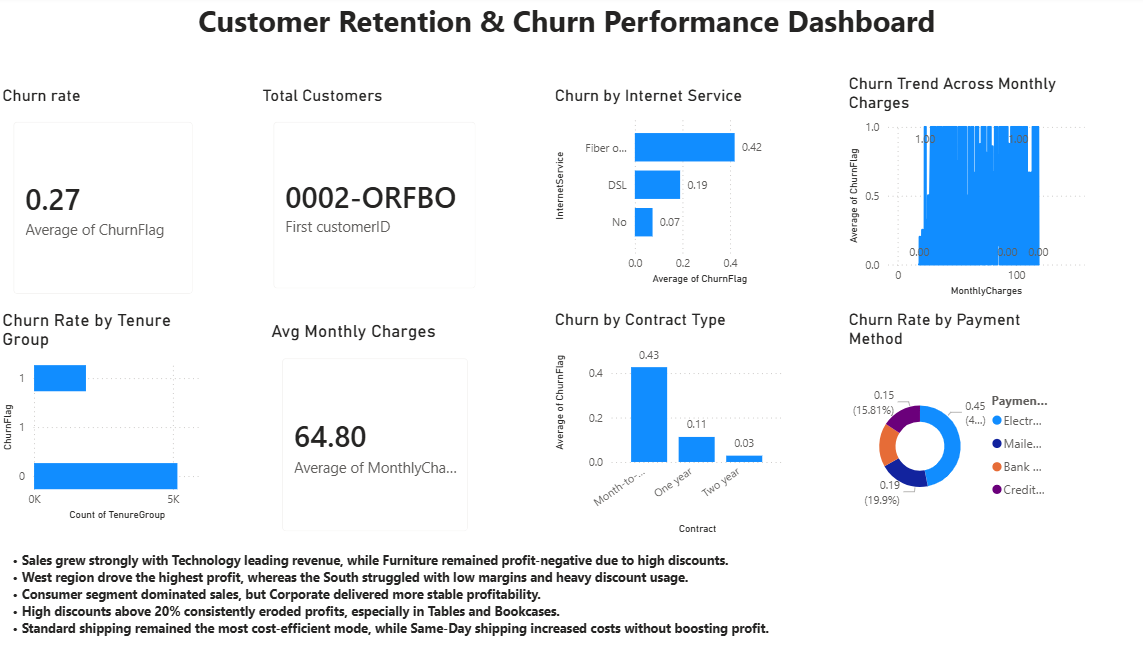

The page's visual inventory and layout, read from the dashboard file:
{"tool":"powerbi","page":{"name":"Page 1","canvas":[1280,720],"ordinal":0},"visuals":[{"type":"cardVisual","title":"Churn rate","fields":{"Data":["Avg(Telco_Cleaned xlsx.ChurnFlag)"]},"box":[0,98.8,231.9,245.6],"z":0},{"type":"cardVisual","title":"Total Customers","fields":{"Data":["Min(Telco_Cleaned xlsx.customerID)"]},"box":[285.4,98.8,256.6,240.1],"z":1},{"type":"cardVisual","title":"Avg Monthly Charges","fields":{"Data":["Avg(Telco_Cleaned xlsx.MonthlyCharges)"]},"box":[295,356.8,238.8,248.4],"z":2},{"type":"clusteredBarChart","title":"Churn Rate by Tenure Group","fields":{"Y":["CountNonNull(Telco_Cleaned xlsx.TenureGroup)"],"Category":["Telco_Cleaned xlsx.ChurnFlag"]},"box":[0,344.4,234.6,236],"z":3},{"type":"clusteredColumnChart","title":"Churn by Contract Type","fields":{"Category":["Telco_Cleaned xlsx.Contract"],"Y":["Avg(Telco_Cleaned xlsx.ChurnFlag)"]},"box":[606.5,344.4,260.7,251.1],"z":4},{"type":"donutChart","title":"Churn Rate by Payment Method","fields":{"Category":["Telco_Cleaned xlsx.PaymentMethod"],"Y":["Avg(Telco_Cleaned xlsx.ChurnFlag)"]},"box":[929,344.4,234.6,255.2],"z":5},{"type":"lineChart","title":"Churn Trend Across Monthly Charges","fields":{"Category":["Telco_Cleaned xlsx.MonthlyCharges"],"Y":["Avg(Telco_Cleaned xlsx.ChurnFlag)"]},"box":[929,85.1,269,249.7],"z":6},{"type":"barChart","title":"Churn by Internet Service","fields":{"Category":["Telco_Cleaned xlsx.InternetService"],"Y":["Avg(Telco_Cleaned xlsx.ChurnFlag)"]},"box":[606.5,98.8,248.4,222.3],"z":7},{"type":"textbox","box":[0,605.1,867.2,115.3],"z":8},{"type":"textbox","box":[100.2,0,1121.1,85.1],"z":9}]}

Visuals, with their boxes in screenshot pixels (x1, y1, x2, y2), scaled from the page's 1280x720 canvas onto the 1143x647 screenshot:
"Churn rate" cardVisual: 0:89:207:309
"Total Customers" cardVisual: 255:89:484:305
"Avg Monthly Charges" cardVisual: 263:321:477:544
"Churn Rate by Tenure Group" clusteredBarChart: 0:309:209:522
"Churn by Contract Type" clusteredColumnChart: 542:309:774:535
"Churn Rate by Payment Method" donutChart: 830:309:1039:539
"Churn Trend Across Monthly Charges" lineChart: 830:76:1070:301
"Churn by Internet Service" barChart: 542:89:763:289
textbox: 0:544:774:646
textbox: 89:0:1091:76
